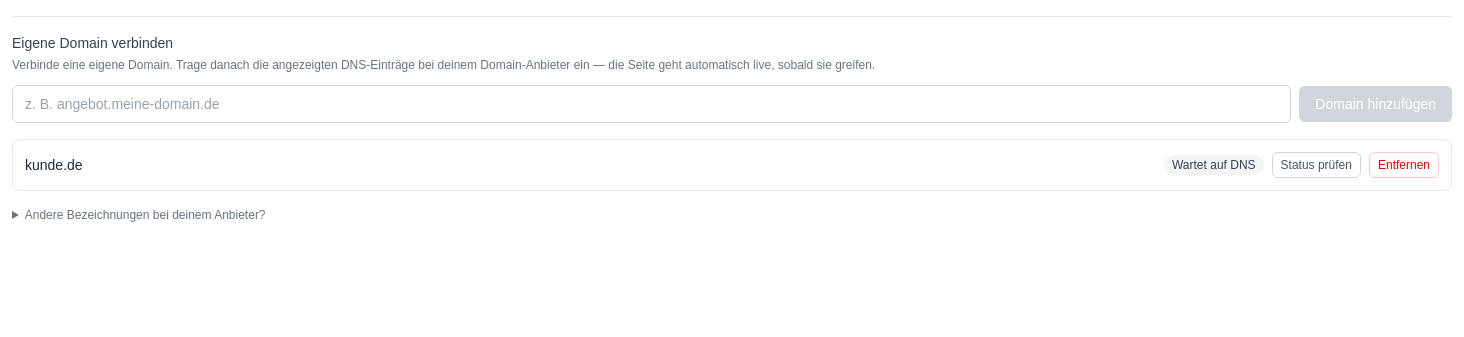
Test: DomainManager (7c-2c) › Entfernen fehlgeschlagen -> Fehlermeldung sichtbar, Zeile bleibt
What coordinates should you click on to do the following:
click the button "Entfernen"
I would click on:
 (1404, 165)
Its box is [1369,152,1439,178].
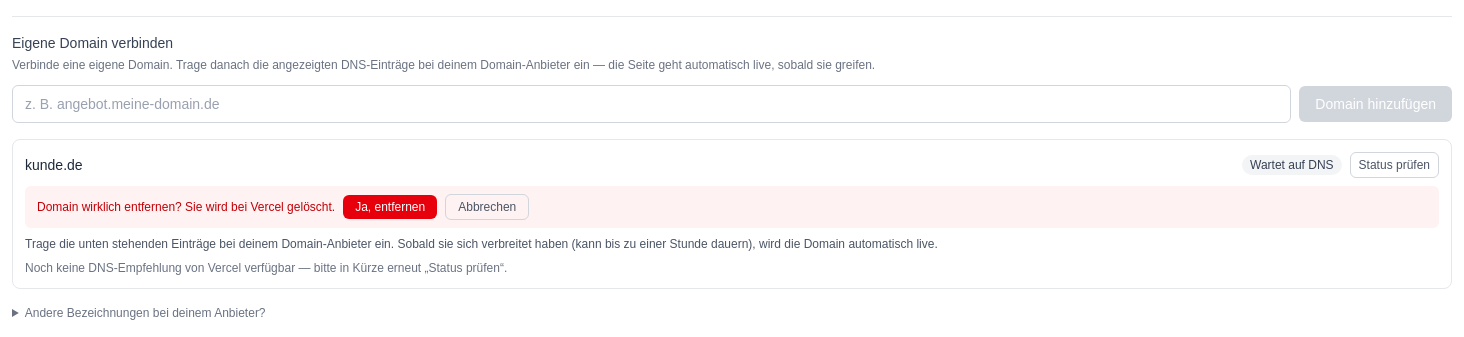
What coordinates should you click on to do the following:
click the button "Ja, entfernen"
I would click on:
 (390, 207)
Its box is [343,195,437,219].
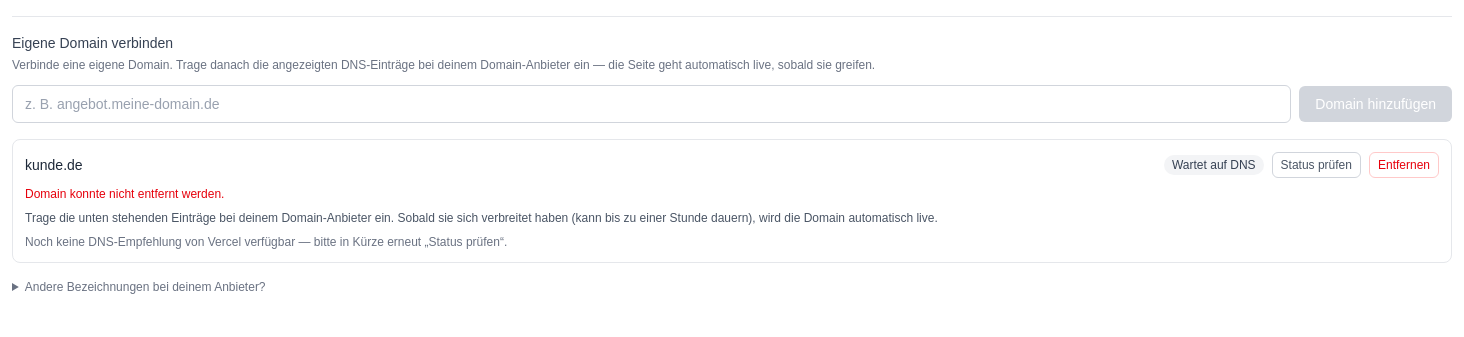
Expected: the text "kunde.de" is shown, [25,155,83,175]
Expected: the text "Domain konnte nicht entfernt werden." is shown, [25,187,224,201]
